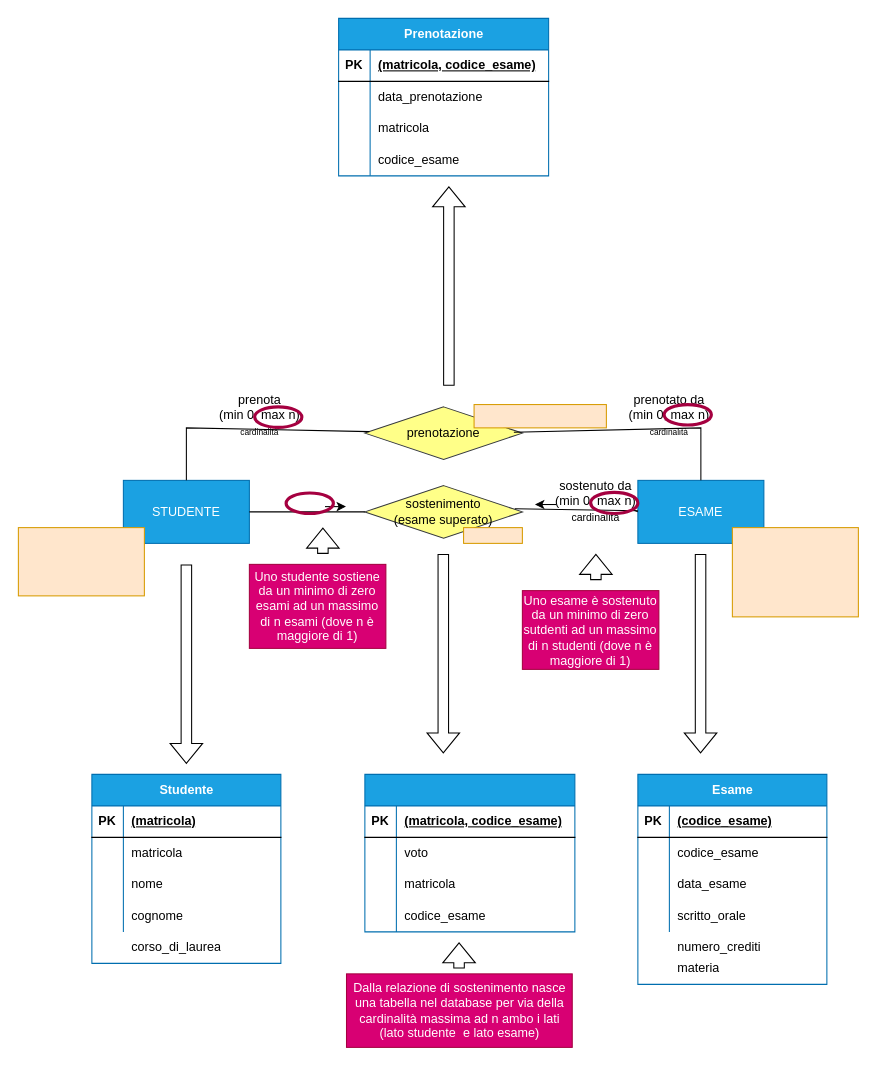
Some shapes in this 877 by 1066 pixel diagram are drawn without their labels. The shapes that lost their labels are listed below. From the top down, each one's box as (x1, y1, x2, y2) in pixels, then its label:
(473, 404, 606, 428): - data_prenotazione
(284, 491, 334, 514): sostiene (min 0, max n) cardinalità
(463, 527, 522, 543): - voto
(17, 527, 144, 596): - matricola - nome - cognome - corso_di_laurea
(731, 527, 858, 617): - materia - data_esame - num_crediti - scritto_orale - codice_esame
(364, 773, 575, 932): Sostenimento
